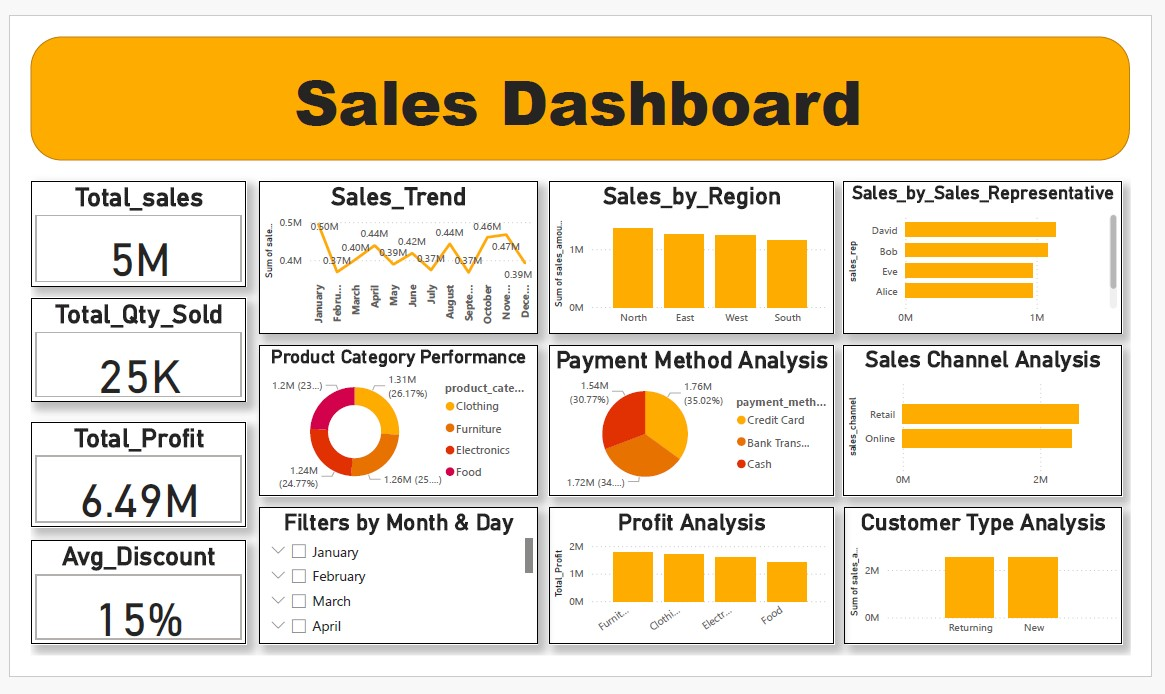

The dashboard page shown, as its layout file describes it:
{"tool":"powerbi","page":{"name":"Page 1","canvas":[1280,720],"ordinal":0},"visuals":[{"type":"cardVisual","title":"Total_sales","fields":{"Data":["Sheet1.TOTAL_SALES"]},"box":[0,168.2,251.3,122.8],"z":0},{"type":"cardVisual","title":"Total_Qty_Sold","fields":{"Data":["Sheet1.Total_Qty_Sold"]},"box":[0,304.3,251.3,120.9],"z":1000},{"type":"cardVisual","title":"Total_Profit","fields":{"Data":["Sheet1.Total_Profit"]},"box":[0,447.9,251.3,122.8],"z":2000},{"type":"cardVisual","title":"Avg_Discount","fields":{"Data":["Sheet1.Avg_Discount"]},"box":[0,585.8,251.3,120.9],"z":3000},{"type":"lineChart","title":"Sales_Trend","fields":{"Category":["Sheet1.sale_date.Variation.Date Hierarchy.Year","Sheet1.sale_date.Variation.Date Hierarchy.Month"],"Y":["Sum(Sheet1.sales_amount)"]},"box":[266.5,168.2,323.2,177.6],"z":4000},{"type":"columnChart","title":"Sales_by_Region","fields":{"Y":["Sum(Sheet1.sales_amount)"],"Category":["Sheet1.region"]},"box":[602.8,168.2,332.6,177.6],"z":5000},{"type":"clusteredBarChart","title":"Sales_by_Sales_Representative","fields":{"Y":["Sum(Sheet1.sales_amount)"],"Category":["Sheet1.sales_rep"]},"box":[944.9,168.2,325,177.6],"z":6000},{"type":"donutChart","title":"Product Category Performance","fields":{"Category":["Sheet1.product_category"],"Y":["Sum(Sheet1.sales_amount)"]},"box":[266.5,359.1,323.2,175.7],"z":7000},{"type":"pieChart","title":"Payment Method Analysis","fields":{"Category":["Sheet1.payment_method"],"Y":["Sum(Sheet1.sales_amount)"]},"box":[602.8,359.1,332.6,175.7],"z":8000},{"type":"barChart","title":"Sales Channel Analysis","fields":{"Category":["Sheet1.sales_channel"],"Y":["Sum(Sheet1.sales_amount)"]},"box":[944.9,359.1,325,175.7],"z":9000},{"type":"columnChart","title":"Customer Type Analysis","fields":{"Category":["Sheet1.customer_type"],"Y":["Sum(Sheet1.sales_amount)"]},"box":[946.8,548,323.2,158.7],"z":10000},{"type":"columnChart","title":"Profit Analysis","fields":{"Category":["Sheet1.product_category"],"Y":["Sheet1.Total_Profit"]},"box":[602.8,548,332.6,158.7],"z":11000},{"type":"slicer","title":"Filters by Month & Day","fields":{"Values":["Sheet1.sale_date.Variation.Date Hierarchy.Month","Sheet1.sale_date.Variation.Date Hierarchy.Day"]},"box":[266.5,548,323.2,158.7],"z":12000},{"type":"shape","box":[0,0,1279.4,143.6],"z":13000},{"type":"textbox","box":[100.2,18.9,1073.4,168.2],"z":13001}]}

Visuals, with their boxes in screenshot pixels (x1, y1, x2, y2):
"Total_sales" cardVisual: box(27, 179, 245, 285)
"Total_Qty_Sold" cardVisual: box(27, 297, 245, 401)
"Total_Profit" cardVisual: box(27, 421, 245, 527)
"Avg_Discount" cardVisual: box(27, 541, 245, 645)
"Sales_Trend" lineChart: box(258, 179, 538, 333)
"Sales_by_Region" columnChart: box(549, 179, 837, 333)
"Sales_by_Sales_Representative" clusteredBarChart: box(845, 179, 1127, 333)
"Product Category Performance" donutChart: box(258, 344, 538, 496)
"Payment Method Analysis" pieChart: box(549, 344, 837, 496)
"Sales Channel Analysis" barChart: box(845, 344, 1127, 496)
"Customer Type Analysis" columnChart: box(847, 508, 1127, 645)
"Profit Analysis" columnChart: box(549, 508, 837, 645)
"Filters by Month & Day" slicer: box(258, 508, 538, 645)
shape: box(27, 33, 1135, 158)
textbox: box(114, 50, 1043, 195)
